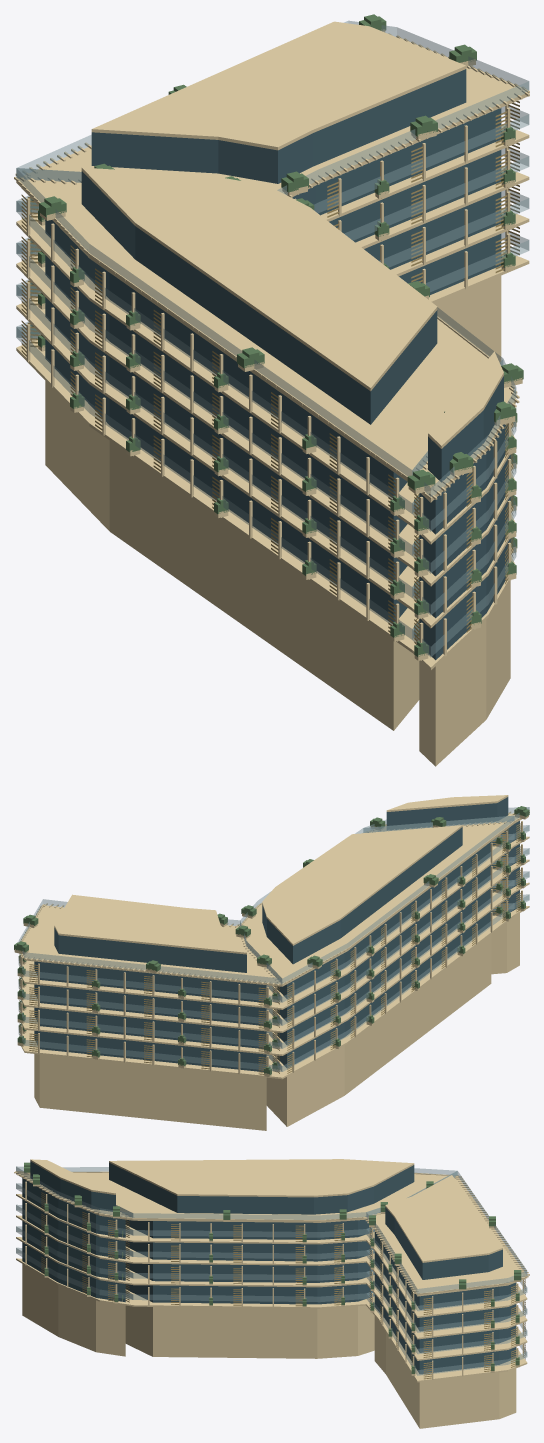
The model's file is creekville-11.glb.
The picture shows the model from 3 angles, top to bottom: view 1: azimuth 30°, elevation 25°; view 2: azimuth 150°, elevation 25°; view 3: azimuth 270°, elevation 25°; orthographic projection. The views are drawn at different scales.
Visible parts, largest first — view 1: Westfluegel, Nordfluegel, Westlicher Abschluss; view 2: Westfluegel, Nordfluegel, Westlicher Abschluss; view 3: Westfluegel, Nordfluegel, Westlicher Abschluss.
Part boxes in pixels (x1,y1,x2,y2): Westfluegel: (14,164,503,730); Nordfluegel: (15,14,529,362); Westlicher Abschluss: (407,351,523,766); Westfluegel: (238,815,514,1126); Nordfluegel: (14,894,283,1130); Westlicher Abschluss: (363,795,529,974); Westfluegel: (63,1159,459,1358); Nordfluegel: (363,1171,529,1428); Westlicher Abschluss: (14,1159,133,1356).
Bounding box in the file's own units: 40.68 × 24.15 × 70.78.
